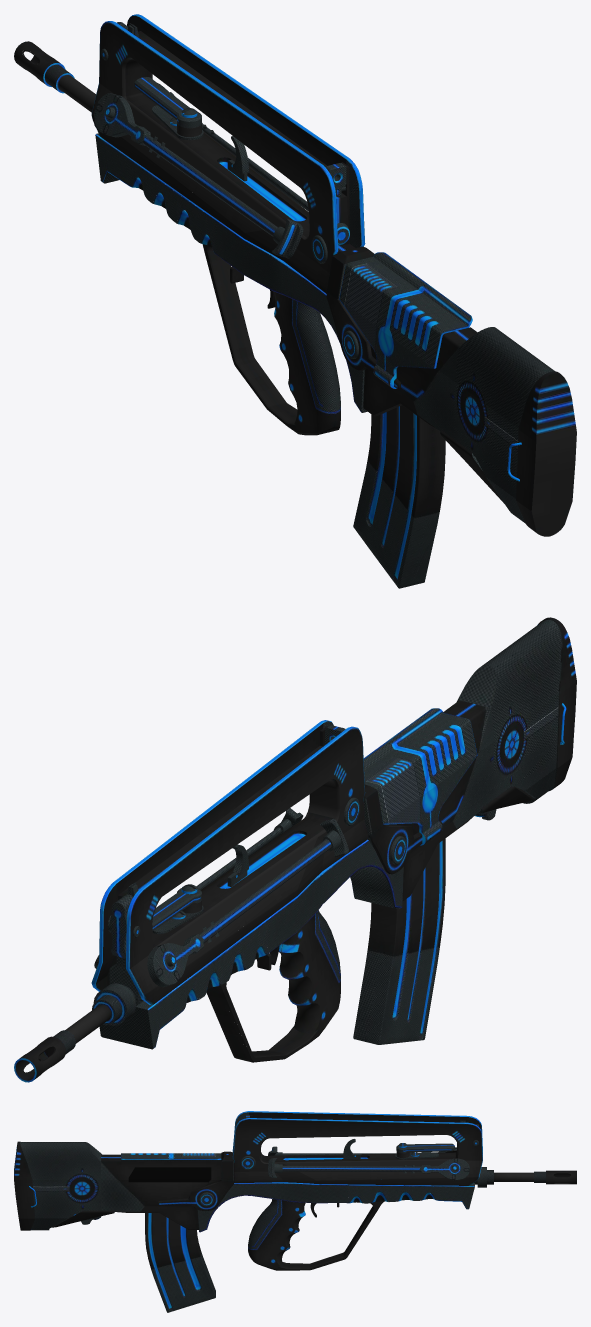
Rendered from famas.glb.
The picture shows the model from 3 angles, top to bottom: view 1: azimuth 30°, elevation 25°; view 2: azimuth 150°, elevation 25°; view 3: azimuth 270°, elevation 25°; orthographic projection. The views are drawn at different scales.
Visible parts, largest first — view 1: Object_3, Object_2, Object_4; view 2: Object_3, Object_2, Object_4; view 3: Object_3, Object_2, Object_4.
Part boxes in pixels (x1,y1,x2,y2): Object_3: (14, 14, 576, 588); Object_2: (22, 15, 561, 584); Object_4: (58, 75, 477, 386); Object_3: (16, 618, 566, 1080); Object_2: (14, 617, 576, 1082); Object_4: (65, 700, 487, 1043); Object_3: (14, 1111, 576, 1312); Object_2: (14, 1111, 570, 1311); Object_4: (92, 1145, 533, 1219).
Bounding box in the file's own units: 0.0619 × 0.2892 × 0.757.
Materials: 1 (1 with a texture image).
